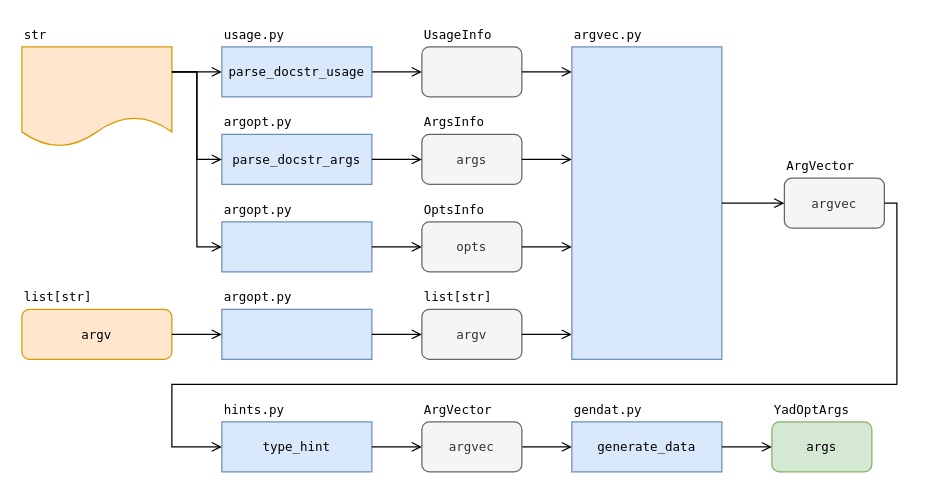
The diagram is 929 pixels wide and 494 high, and some of its shapes have lost their labels. The shapes that lost their labels are listed below. From the top down, each one's centre as x and y in pixels, then its label:
At (x=471, y=71): "usage".
At (x=96, y=96): "docstring".
At (x=646, y=202): "parse_argvec".
At (x=296, y=246): "parse_docstr_opts".
At (x=296, y=333): "retokenize".
